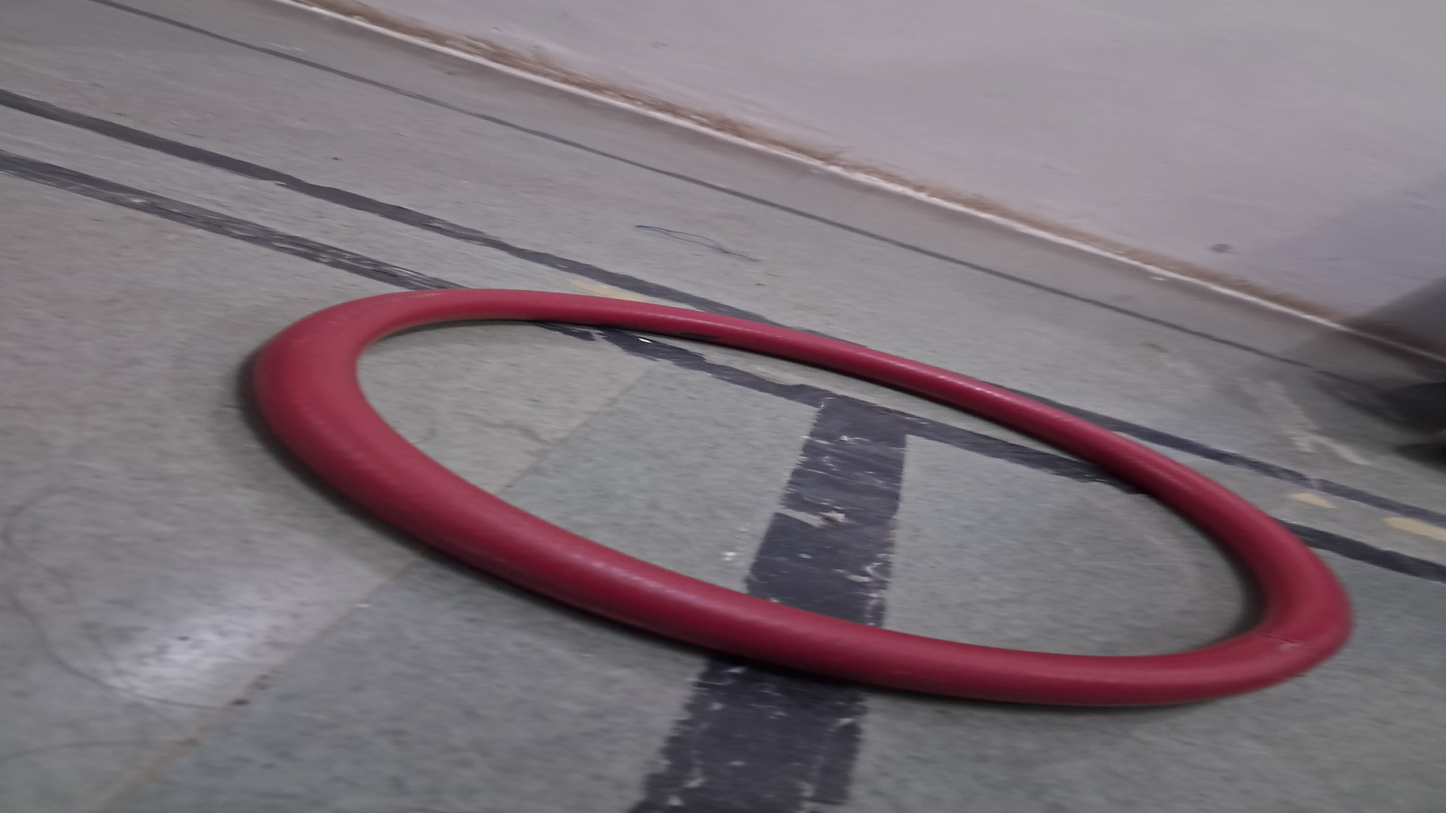Red ring: (259, 289, 1356, 711)
